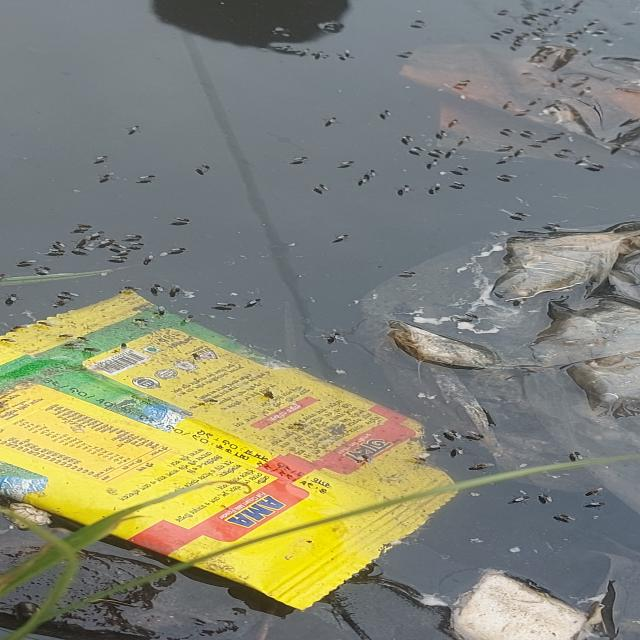Breeding Place: (3, 1, 633, 638)
